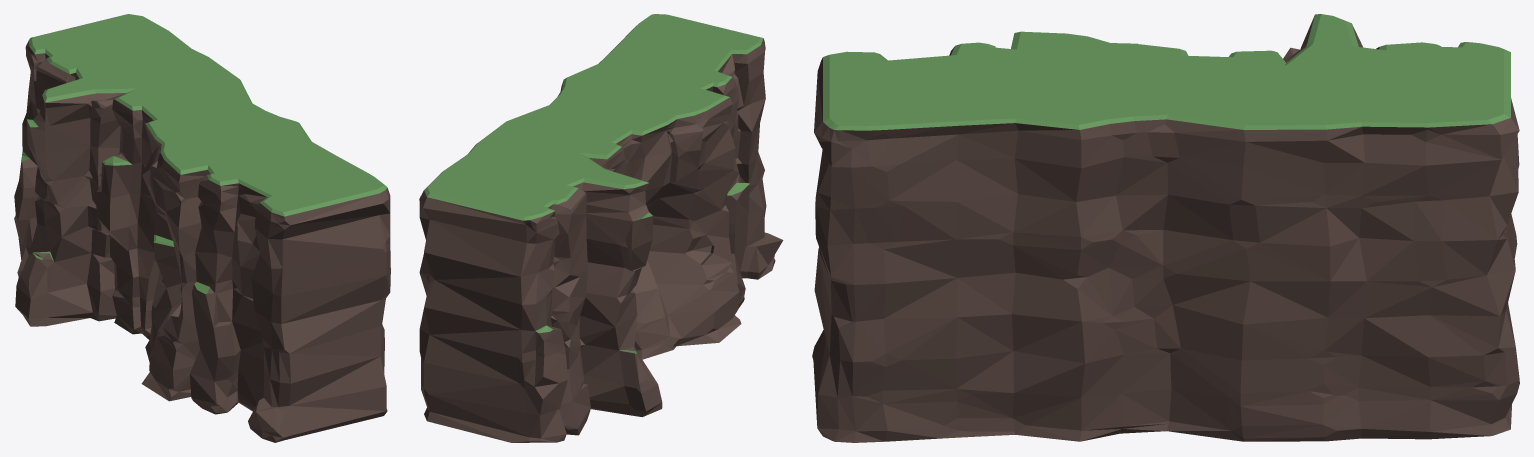
File: Cliff 6.fbx
The picture shows the model from 3 angles, left to right: view 1: azimuth 30°, elevation 25°; view 2: azimuth 150°, elevation 25°; view 3: azimuth 270°, elevation 25°; orthographic projection. The views are drawn at different scales.
Parts seen in each view (by area): view 1: Cliff 12; view 2: Cliff 12; view 3: Cliff 12.
Boxes of the visible parts, x1,y1,x2,y2 form: Cliff 12: (14,14,390,442); Cliff 12: (419,14,783,442); Cliff 12: (812,14,1519,442).
Bounding box in the file's own units: 1.77 × 2.03 × 4.11.
